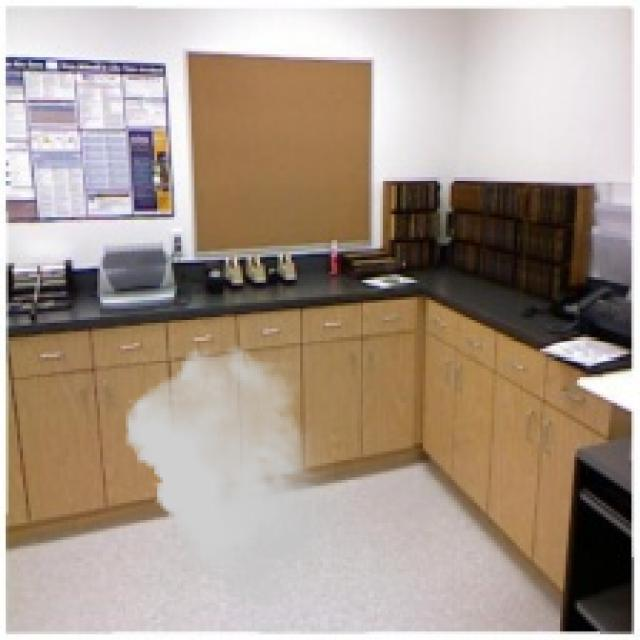Smoke: (126, 346, 334, 603)
